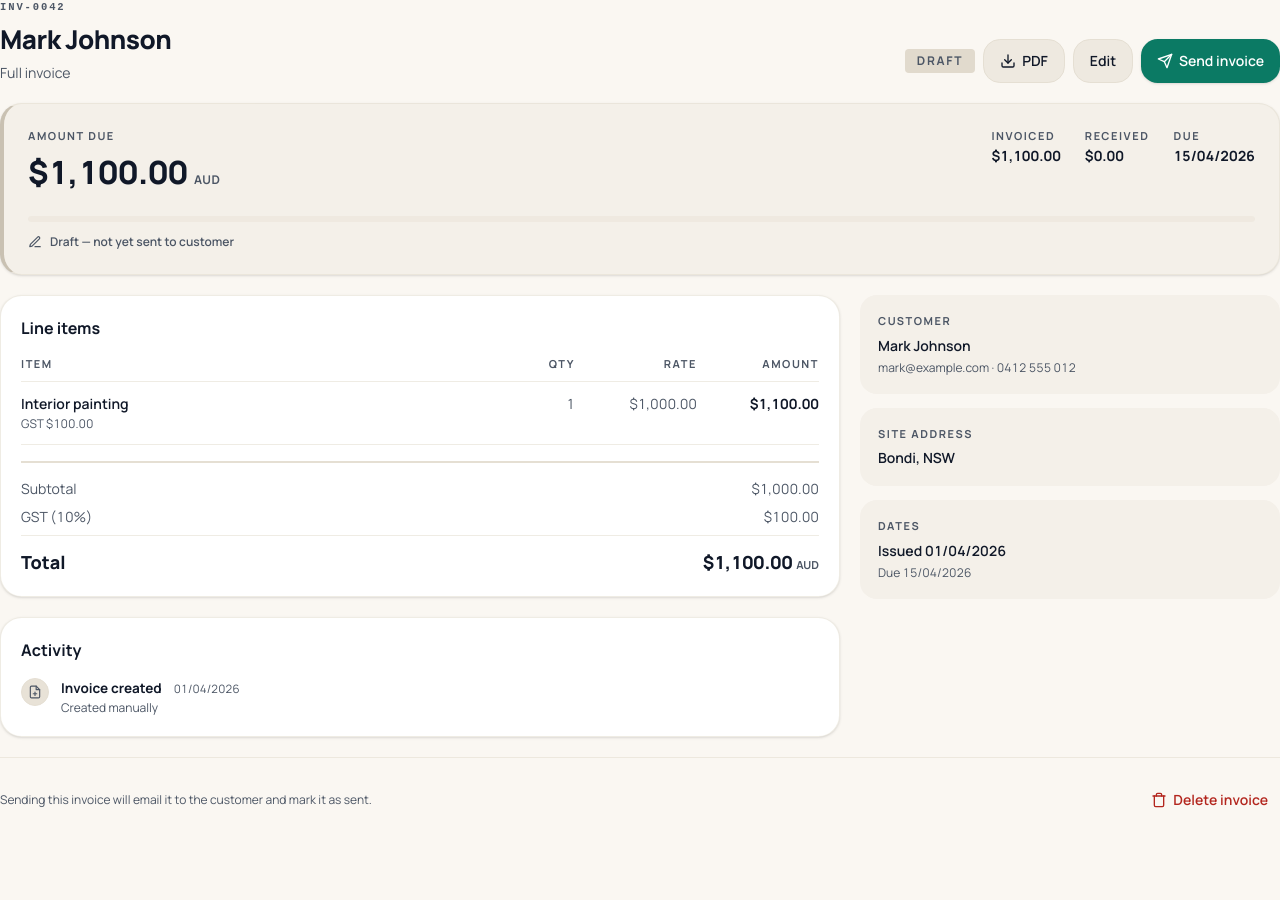
Scenario: invoice action error recovery › shows thrown delete errors and closes the confirmation dialog
Click the button "Delete invoice": (1210, 800) [1139,778,1279,822]
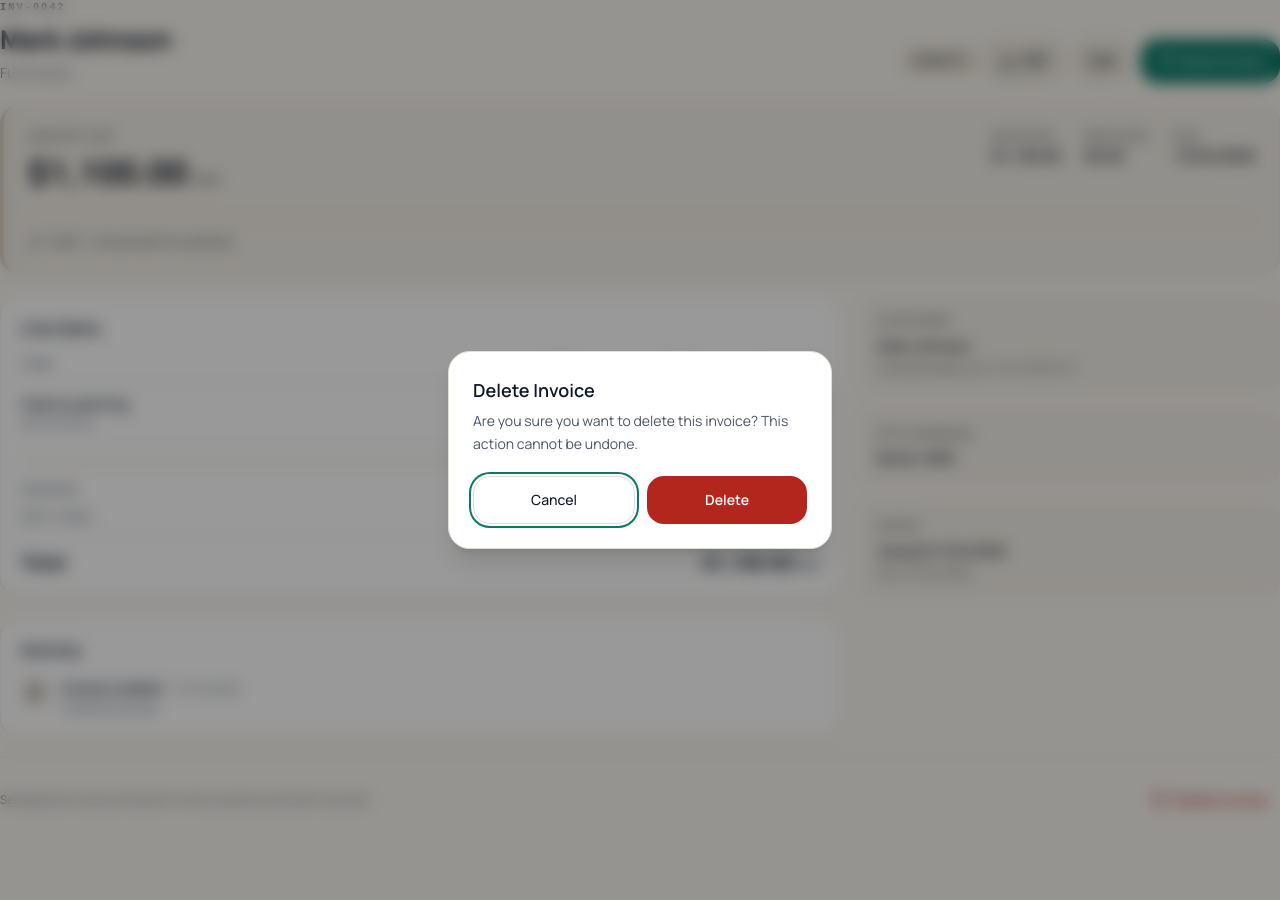
Click the button "Delete": (727, 500) [647,476,807,524]
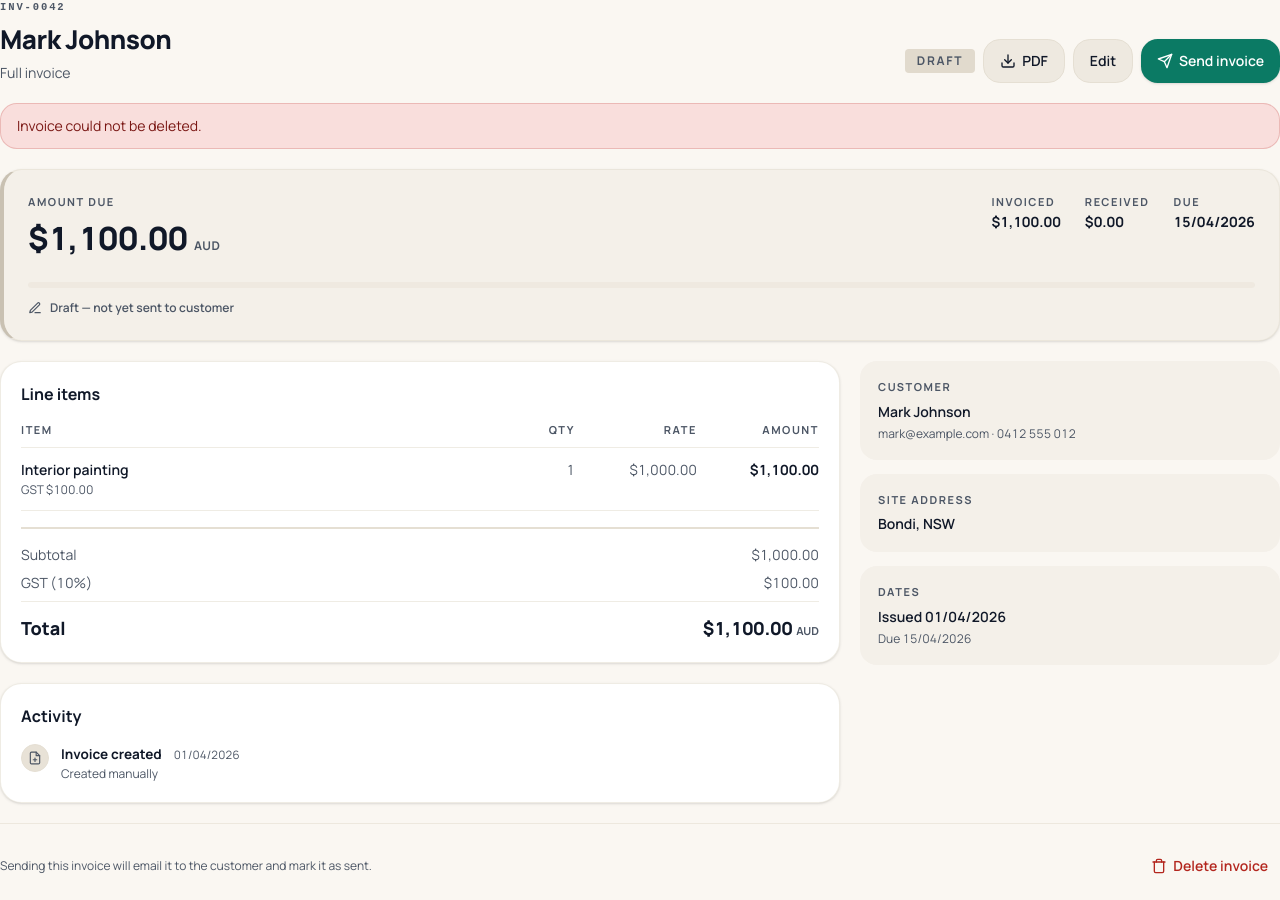
Expected: the button "Delete invoice" is enabled, [1139,844,1279,888]
Expected: the text "Invoice could not be deleted." is shown, [0,103,1279,149]
Expected: the dialog is gone
